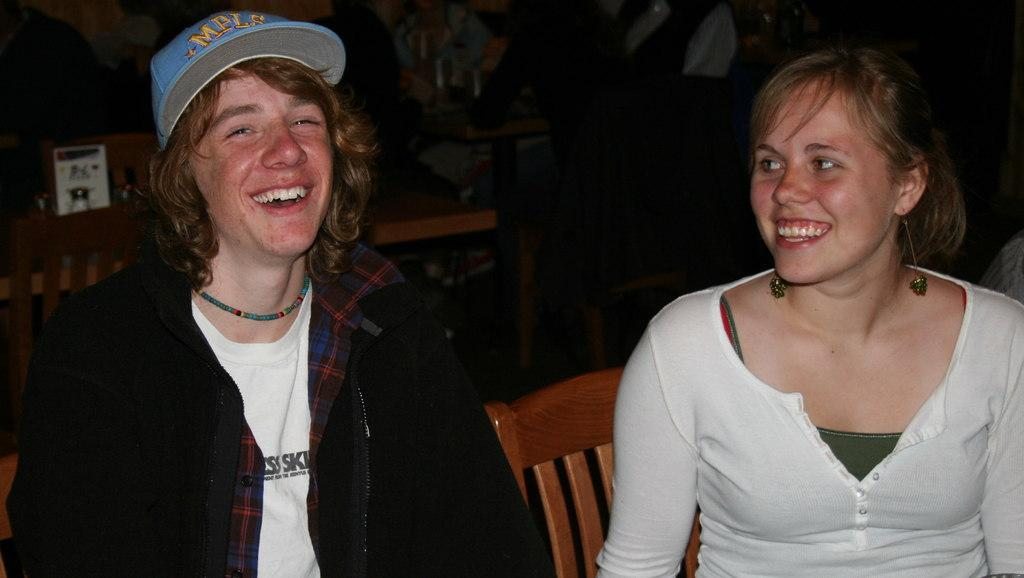Hat: (148, 9, 346, 150)
